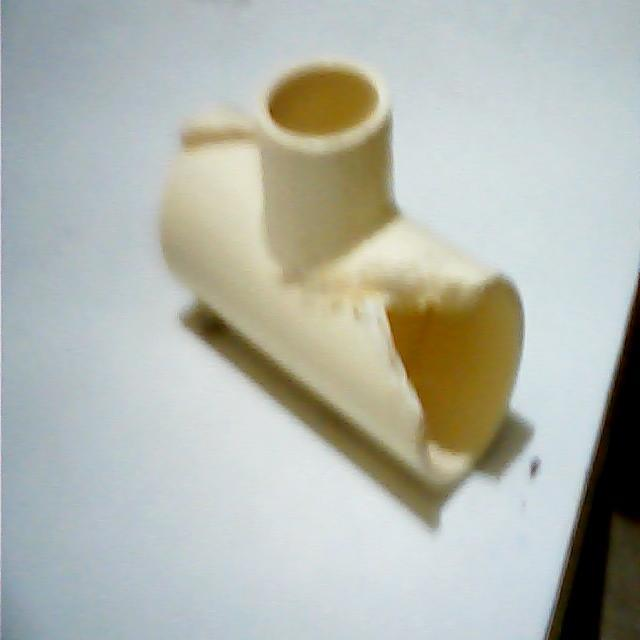Defective: (336, 255, 468, 432), (166, 102, 252, 157)
T Joint: (156, 59, 526, 530)
